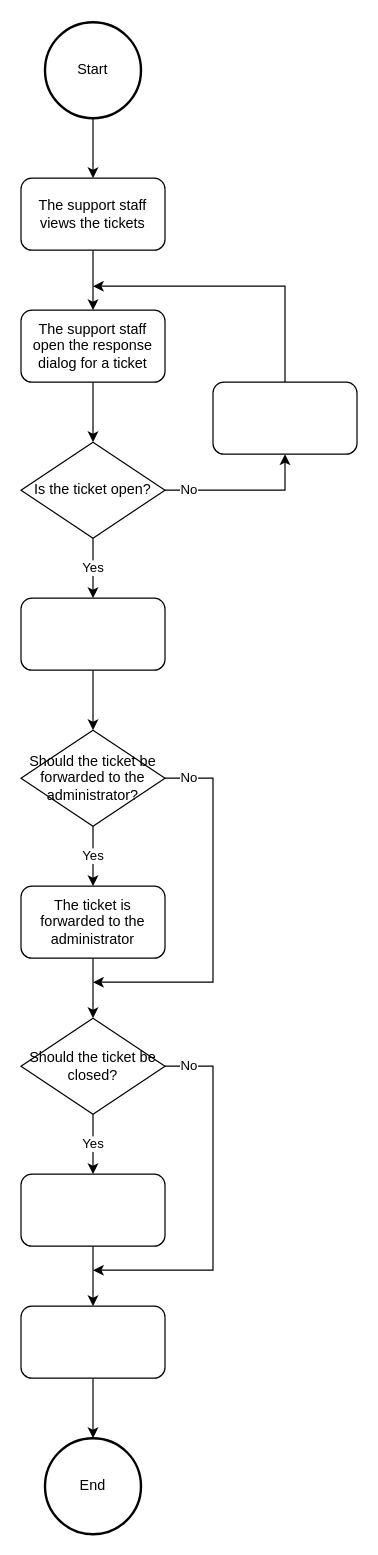
This 378x1555 diagram has some shape labels left out. Each missing label, with the box of its shape:
An error message is shown to the user: (212, 381, 357, 454)
The response is sent to the user: (20, 1305, 165, 1378)
The support staff writes a response to the ticket: (20, 597, 165, 670)
The ticket is closed: (20, 1173, 165, 1246)
